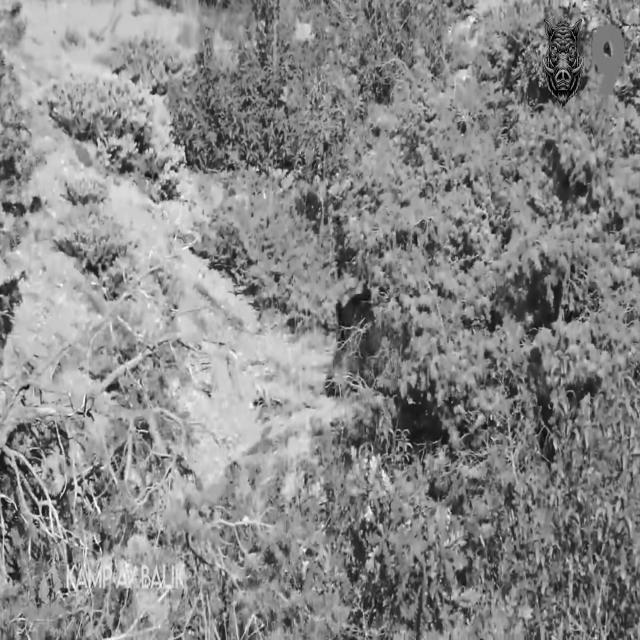boar: (336, 290, 380, 381), (542, 18, 583, 107)
